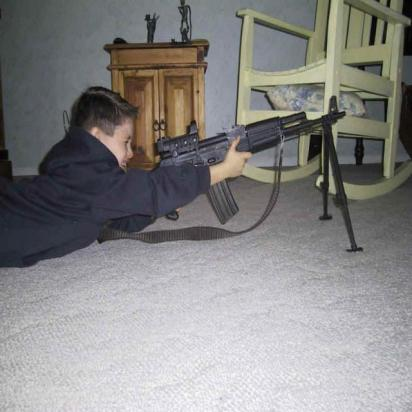Gun: (135, 93, 343, 232)
